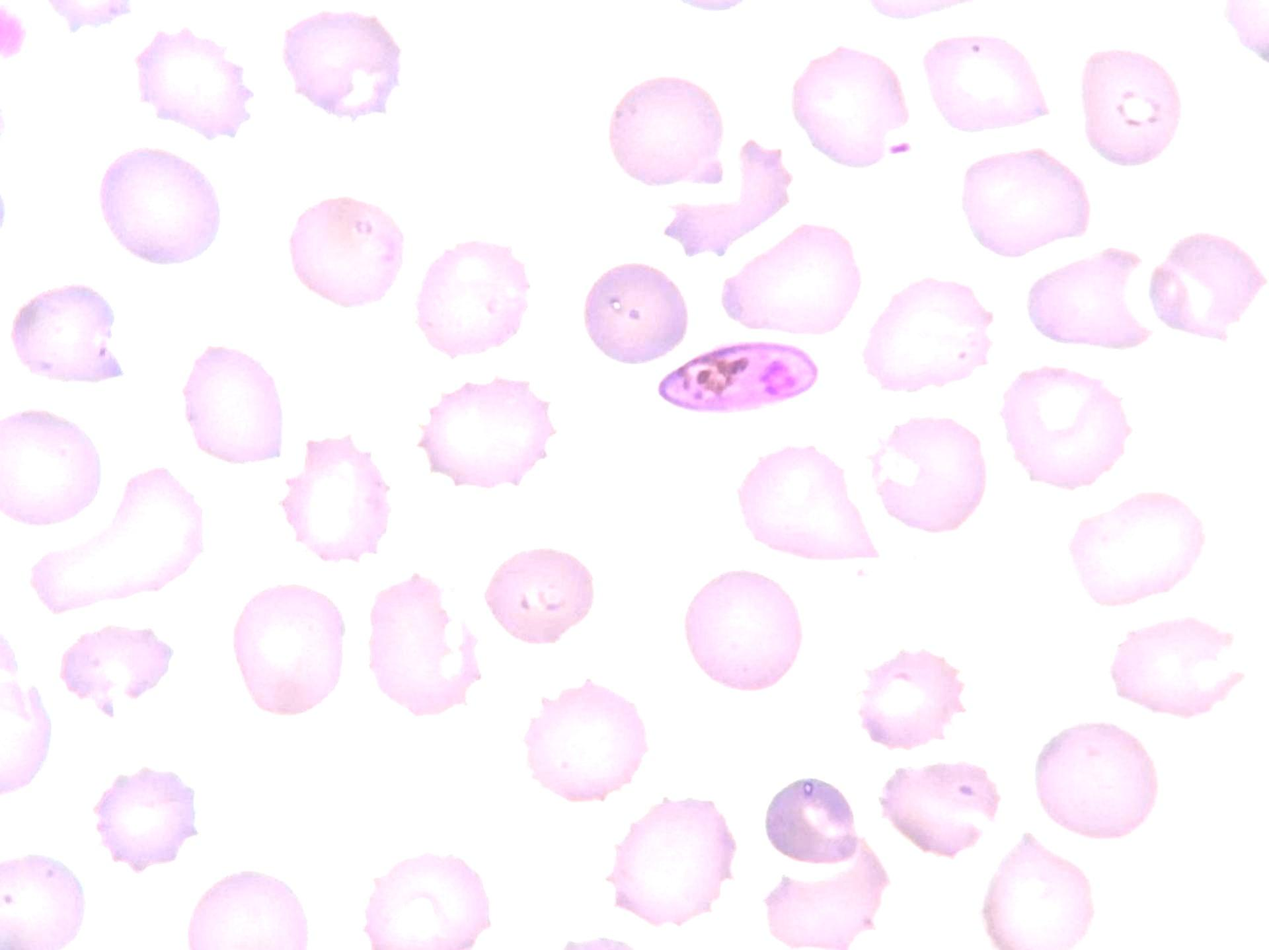Infected: (659, 341, 818, 415)
Uninfected: (25, 463, 210, 609), (606, 791, 737, 928), (737, 443, 885, 564), (368, 565, 479, 715), (661, 133, 793, 255), (1006, 362, 1132, 488), (1069, 488, 1205, 604), (1034, 720, 1160, 845), (1026, 248, 1184, 346), (281, 433, 397, 562), (863, 279, 997, 390), (790, 45, 914, 164), (725, 230, 866, 334), (420, 375, 552, 486), (1115, 613, 1247, 722), (233, 587, 344, 716), (527, 681, 646, 801), (99, 150, 223, 262), (606, 75, 726, 190), (981, 831, 1096, 950), (871, 418, 988, 534), (689, 570, 799, 693), (962, 148, 1091, 252), (765, 843, 889, 950), (289, 197, 409, 307), (131, 32, 249, 143), (365, 849, 494, 950), (415, 243, 528, 357), (0, 408, 105, 529), (180, 344, 285, 464), (1152, 228, 1264, 338), (284, 9, 401, 114), (1081, 45, 1182, 165), (5, 286, 128, 382), (484, 547, 598, 649), (929, 38, 1049, 131), (881, 765, 995, 860), (858, 644, 963, 747), (97, 772, 195, 870), (587, 263, 683, 361), (192, 867, 305, 950), (768, 778, 865, 872), (66, 630, 171, 716), (0, 854, 88, 950)
